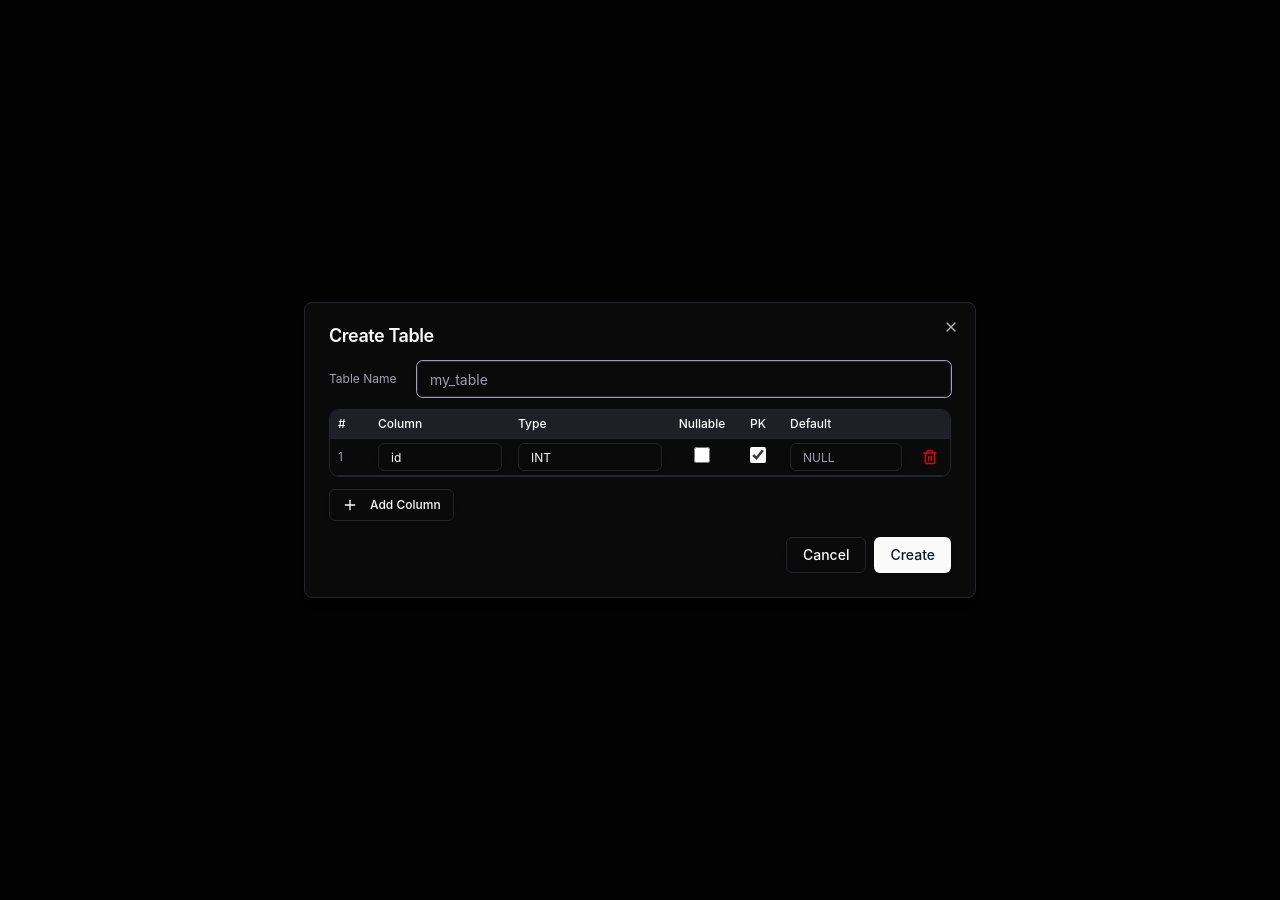
Test case: shows error when column name is empty
The image size is (1280, 900).
Type "users" into the field with placeholder "my_table" at (684, 379), box x1=417 y1=361 x2=951 y2=397
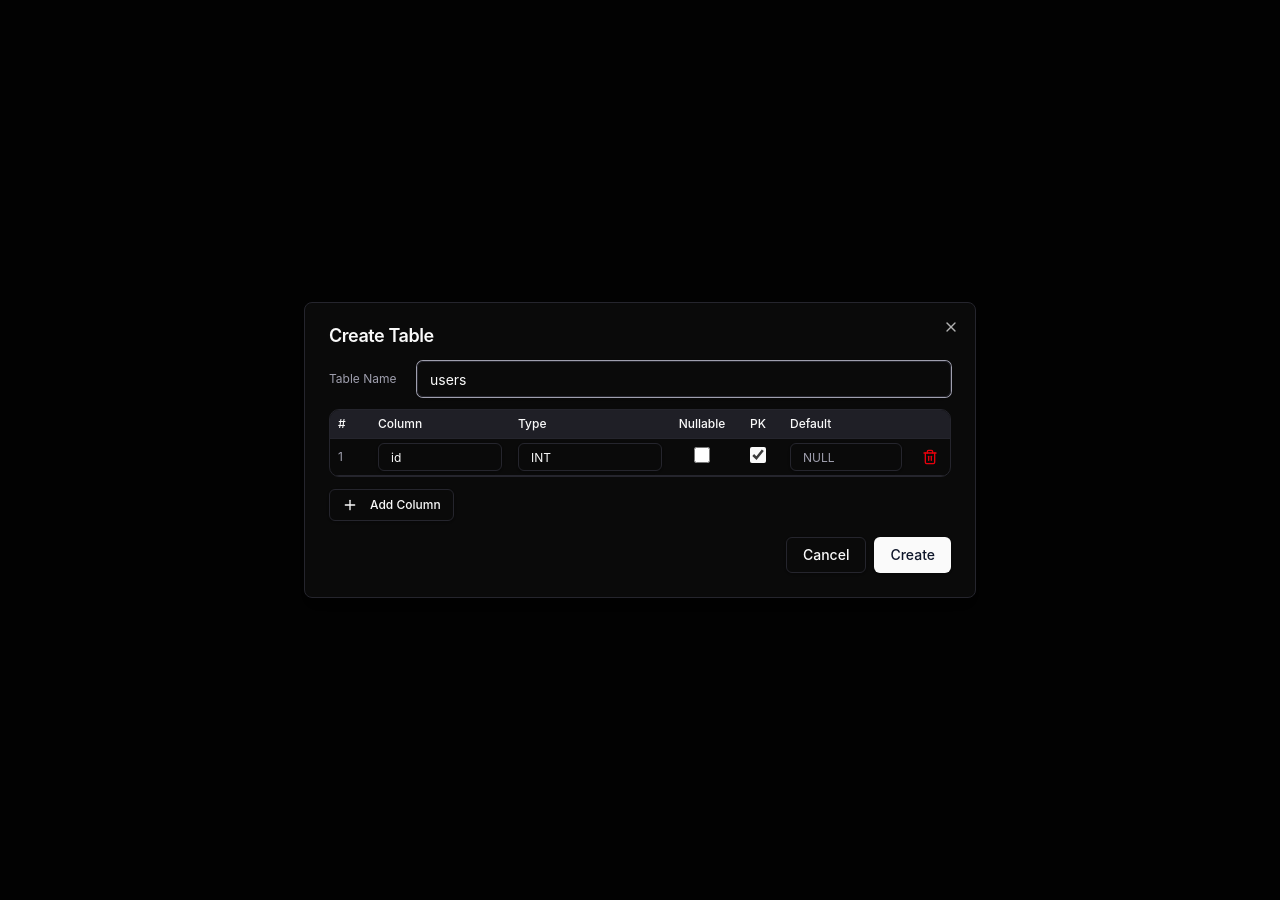
Clear the 2nd field showing "id" at (440, 457), box x1=378 y1=443 x2=502 y2=471
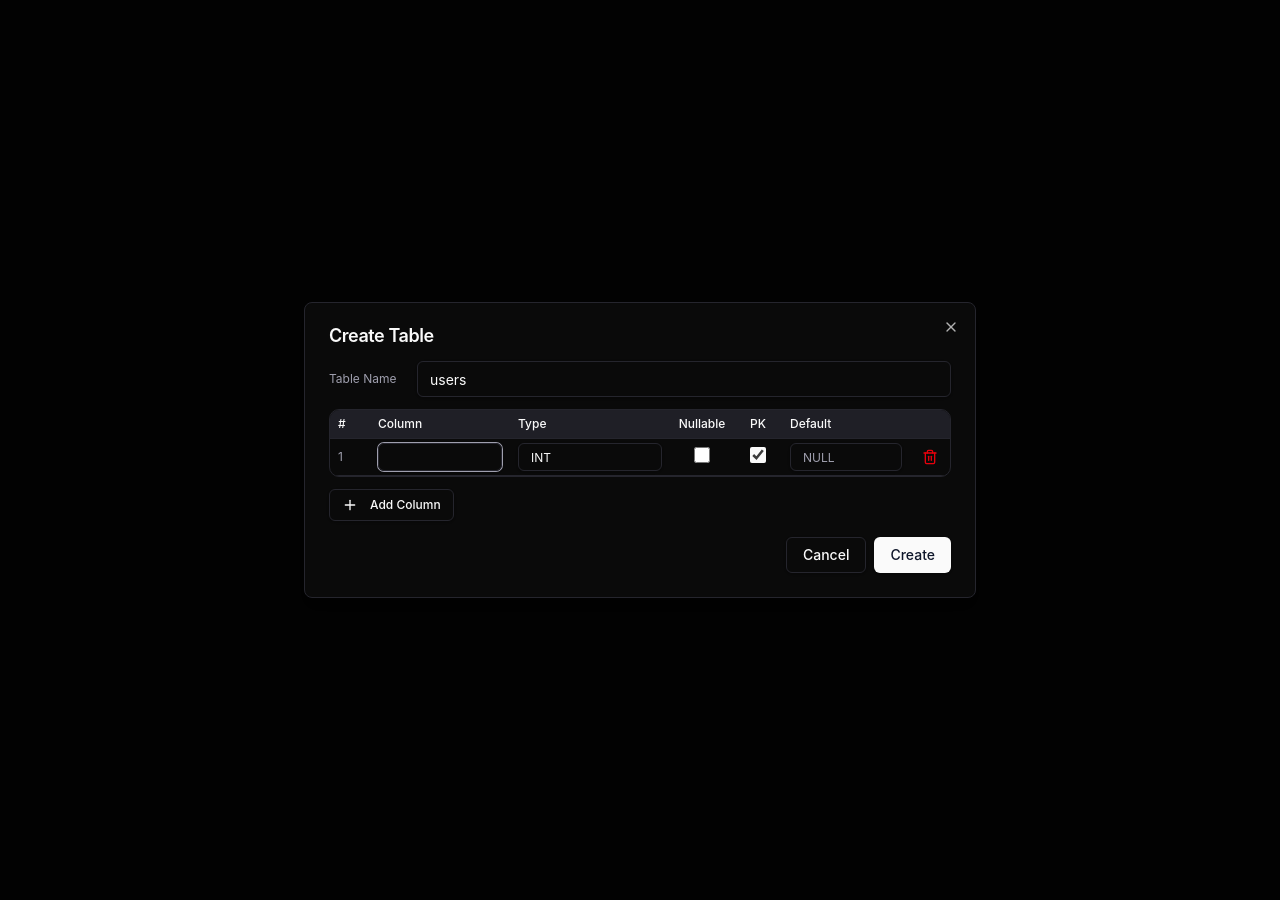
Click the button "Create" at (913, 555), box x1=874 y1=537 x2=951 y2=573
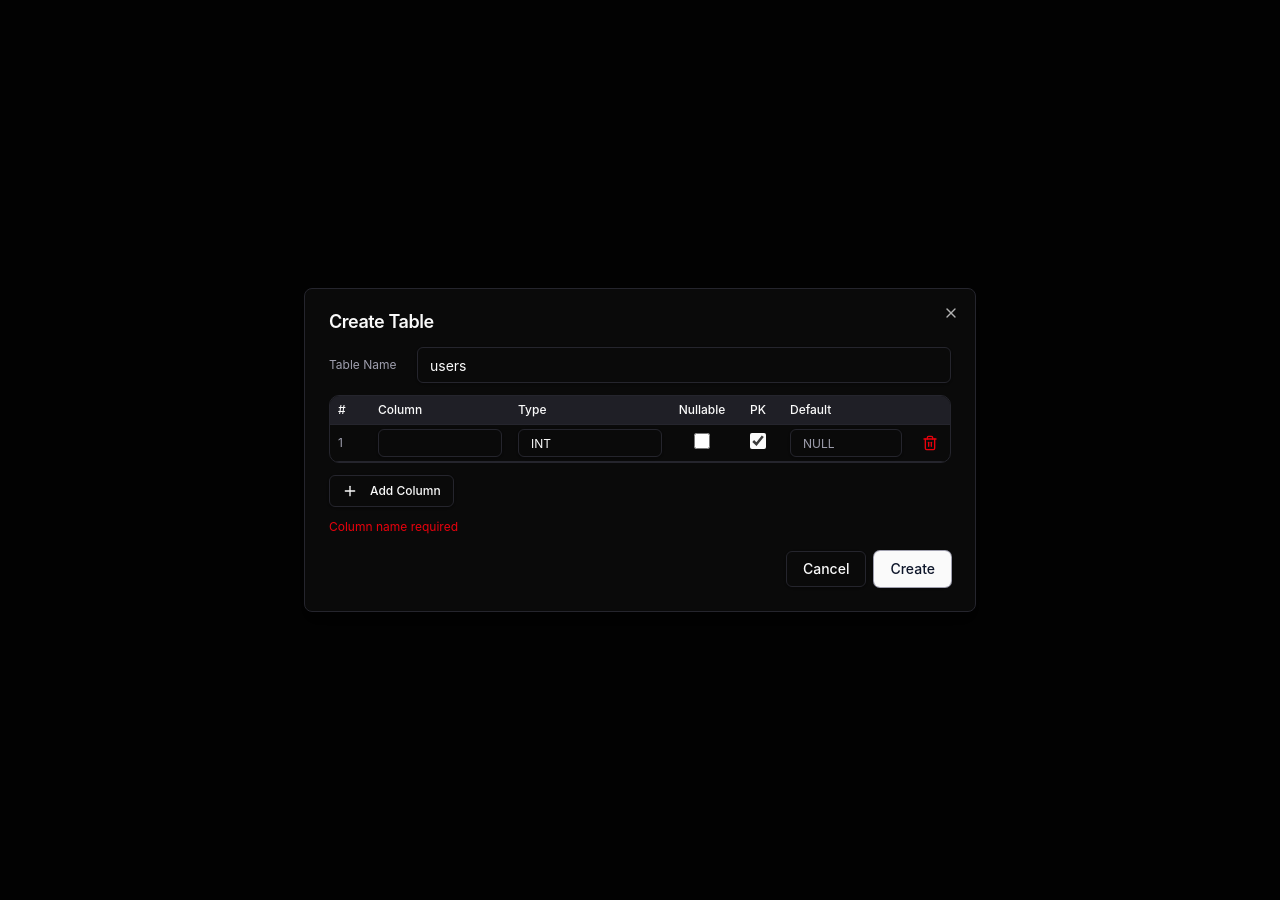
expect the text "Column name required" is shown: met, box x1=329 y1=519 x2=458 y2=534
